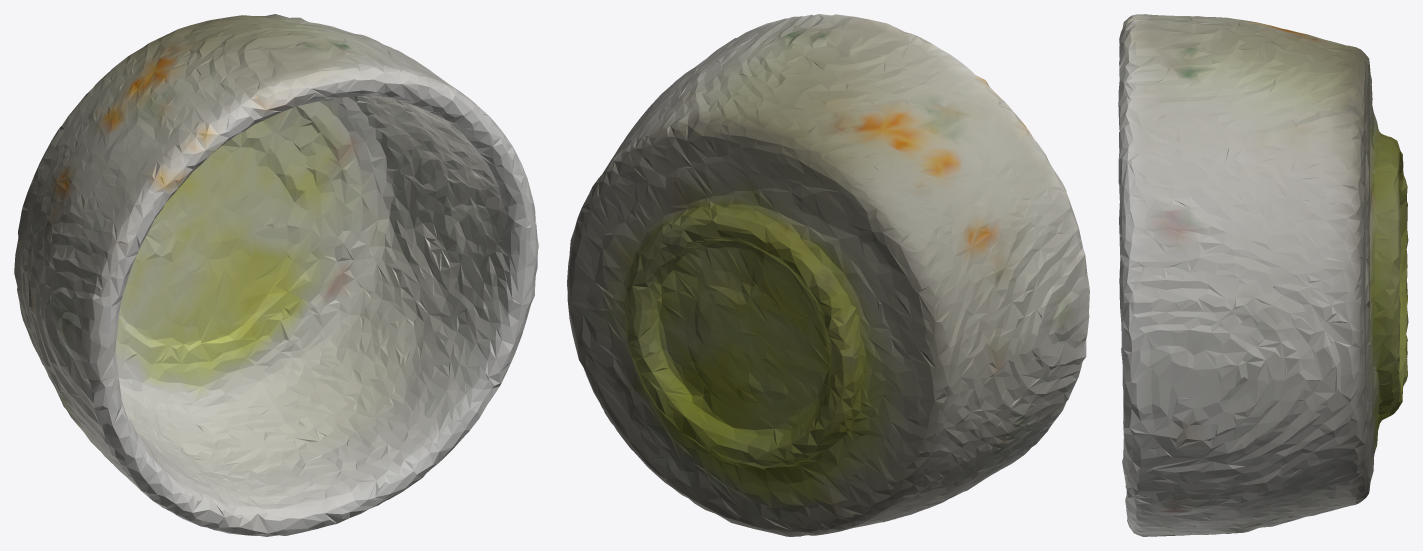
The model's file is bowl_1.glb.
3 renders of one model, left to right at view 1: azimuth 30°, elevation 25°; view 2: azimuth 150°, elevation 25°; view 3: azimuth 270°, elevation 25°, orthographic. The views are drawn at different scales.
Visible parts, largest first — view 1: geometry_0; view 2: geometry_0; view 3: geometry_0.
Boxes of the visible parts, <box> form: geometry_0: <box>14,14,538,536</box>; geometry_0: <box>567,14,1089,536</box>; geometry_0: <box>1118,14,1408,536</box>.
Bounding box in the file's own units: 1 × 0.9916 × 0.5538.
